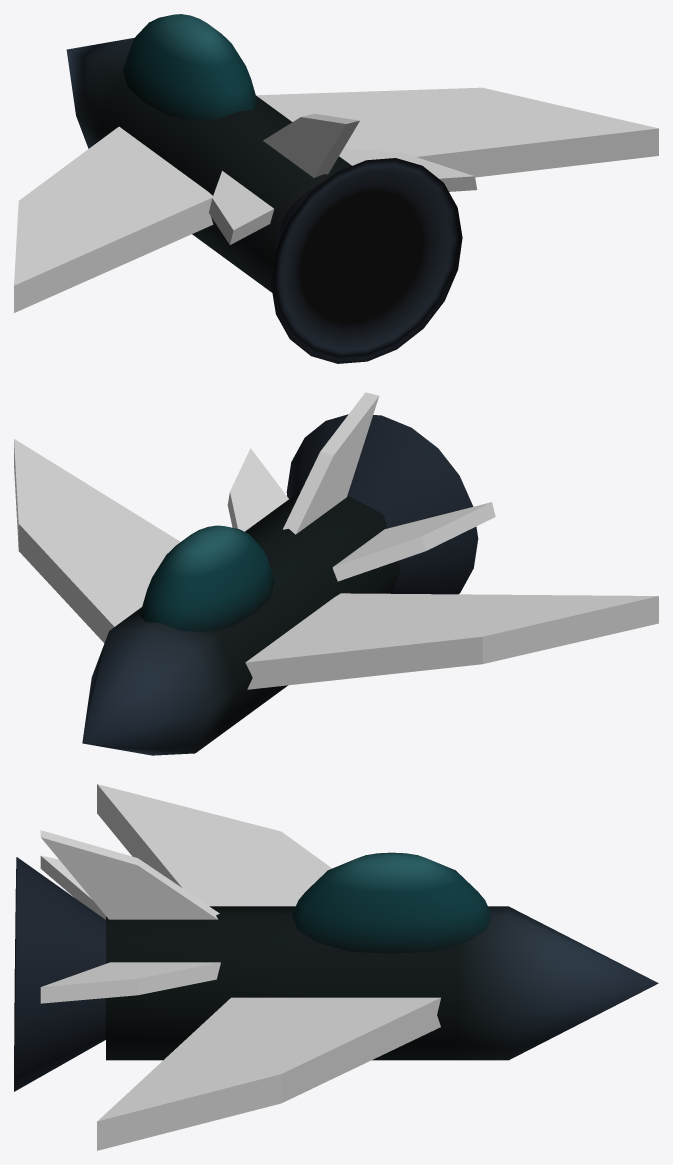
Rendered from model_simpleShip.fbx.
The picture shows the model from 3 angles, top to bottom: view 1: azimuth 30°, elevation 25°; view 2: azimuth 150°, elevation 25°; view 3: azimuth 270°, elevation 25°; orthographic projection. The views are drawn at different scales.
Parts seen in each view (by area): view 1: wings, engine, Base, cabin, BackWings; view 2: wings, Base, engine, BackWings, cabin; view 3: Base, wings, cabin, engine, BackWings.
Part boxes in pixels (box(x1,y1,x2,y2)): wings: box(14, 87, 658, 312); engine: box(271, 158, 462, 363); Base: box(66, 38, 351, 292); cabin: box(123, 14, 258, 120); BackWings: box(209, 113, 477, 244); wings: box(14, 439, 658, 689); Base: box(82, 493, 400, 755); engine: box(286, 414, 478, 594); BackWings: box(227, 392, 495, 581); cabin: box(139, 525, 274, 632); Base: box(106, 906, 658, 1060); wings: box(97, 784, 440, 1150); cabin: box(292, 852, 491, 953); engine: box(14, 857, 105, 1091); BackWings: box(40, 830, 220, 1003).
Bounding box in the file's own units: 5.32 × 1.82 × 4.3.
